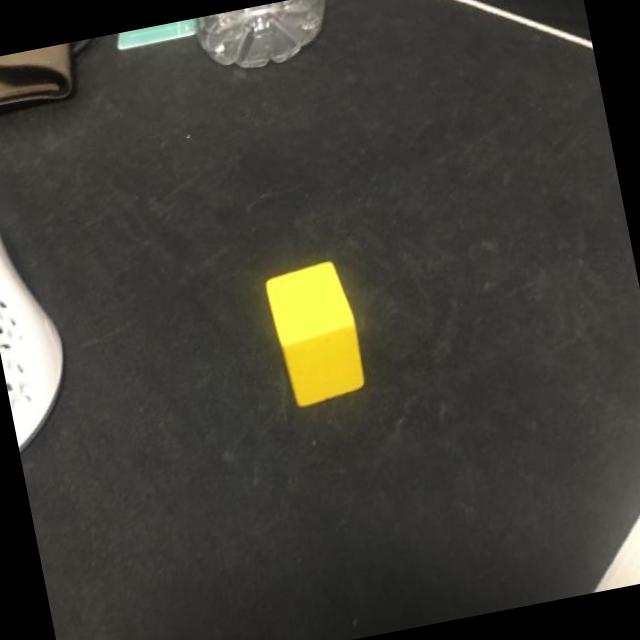yellow: (264, 257, 368, 408)
